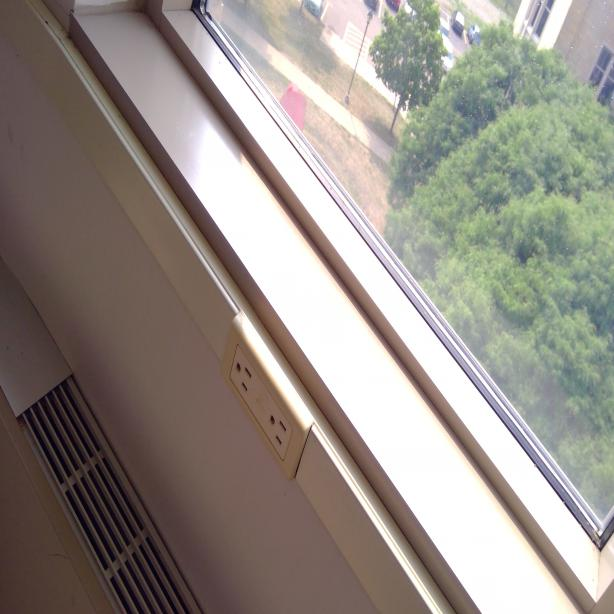typeb: (264, 403, 292, 451), (228, 348, 254, 395)
